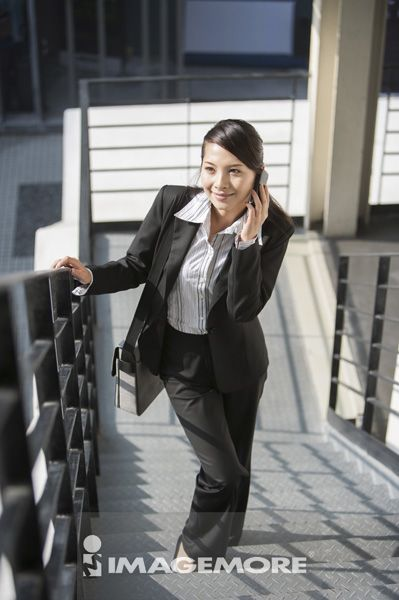phone: (249, 170, 270, 215)
talk: (204, 157, 270, 242)
